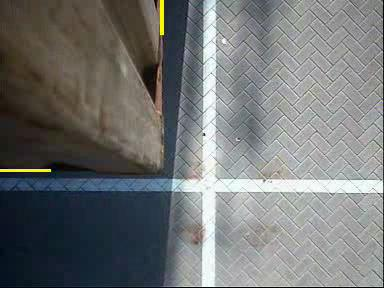groundmarker_2: (13, 1, 91, 115)
